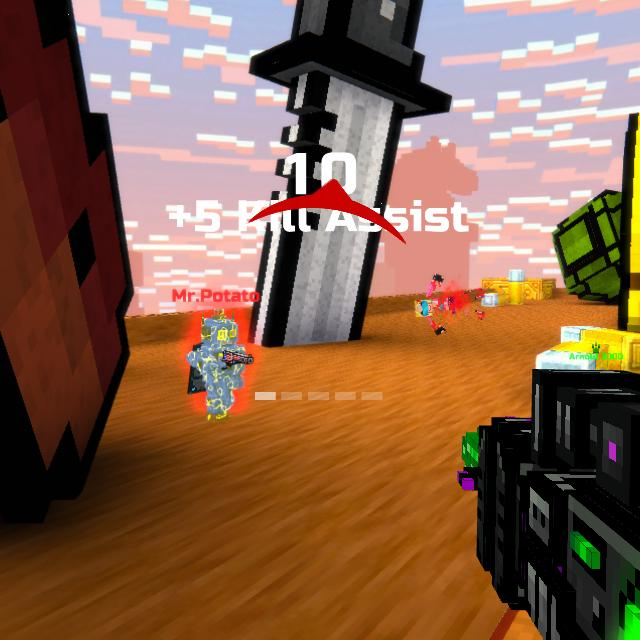Enemy: (186, 309, 246, 420)
